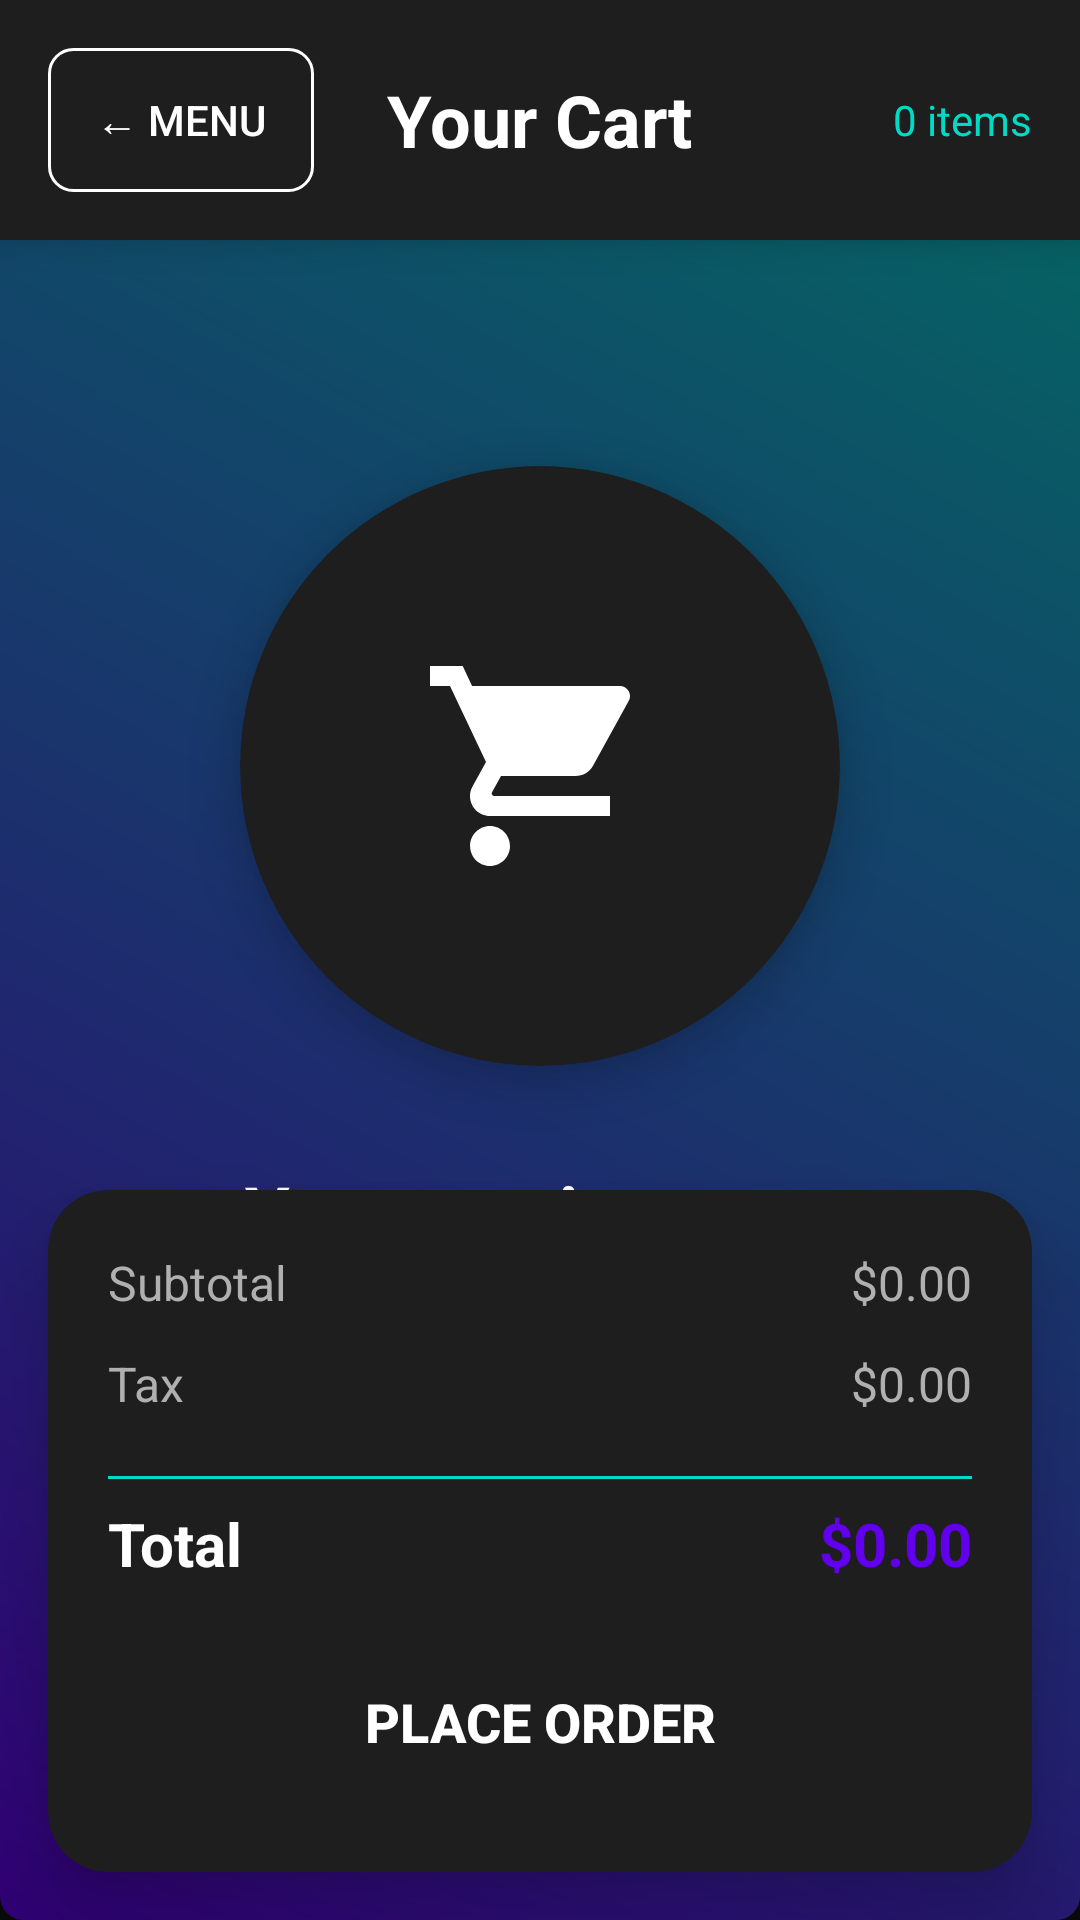

Icon bounding boxes for this 1080x1920 phone screenshot, format (x1, y1, x2, y2):
cart: (430, 666, 630, 866)
